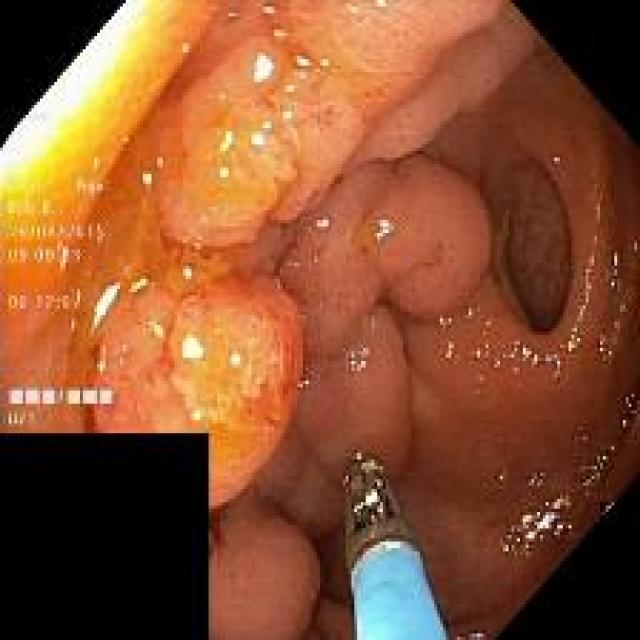Polyps: (160, 3, 536, 246), (278, 155, 491, 477), (94, 276, 304, 508), (211, 490, 321, 640)
